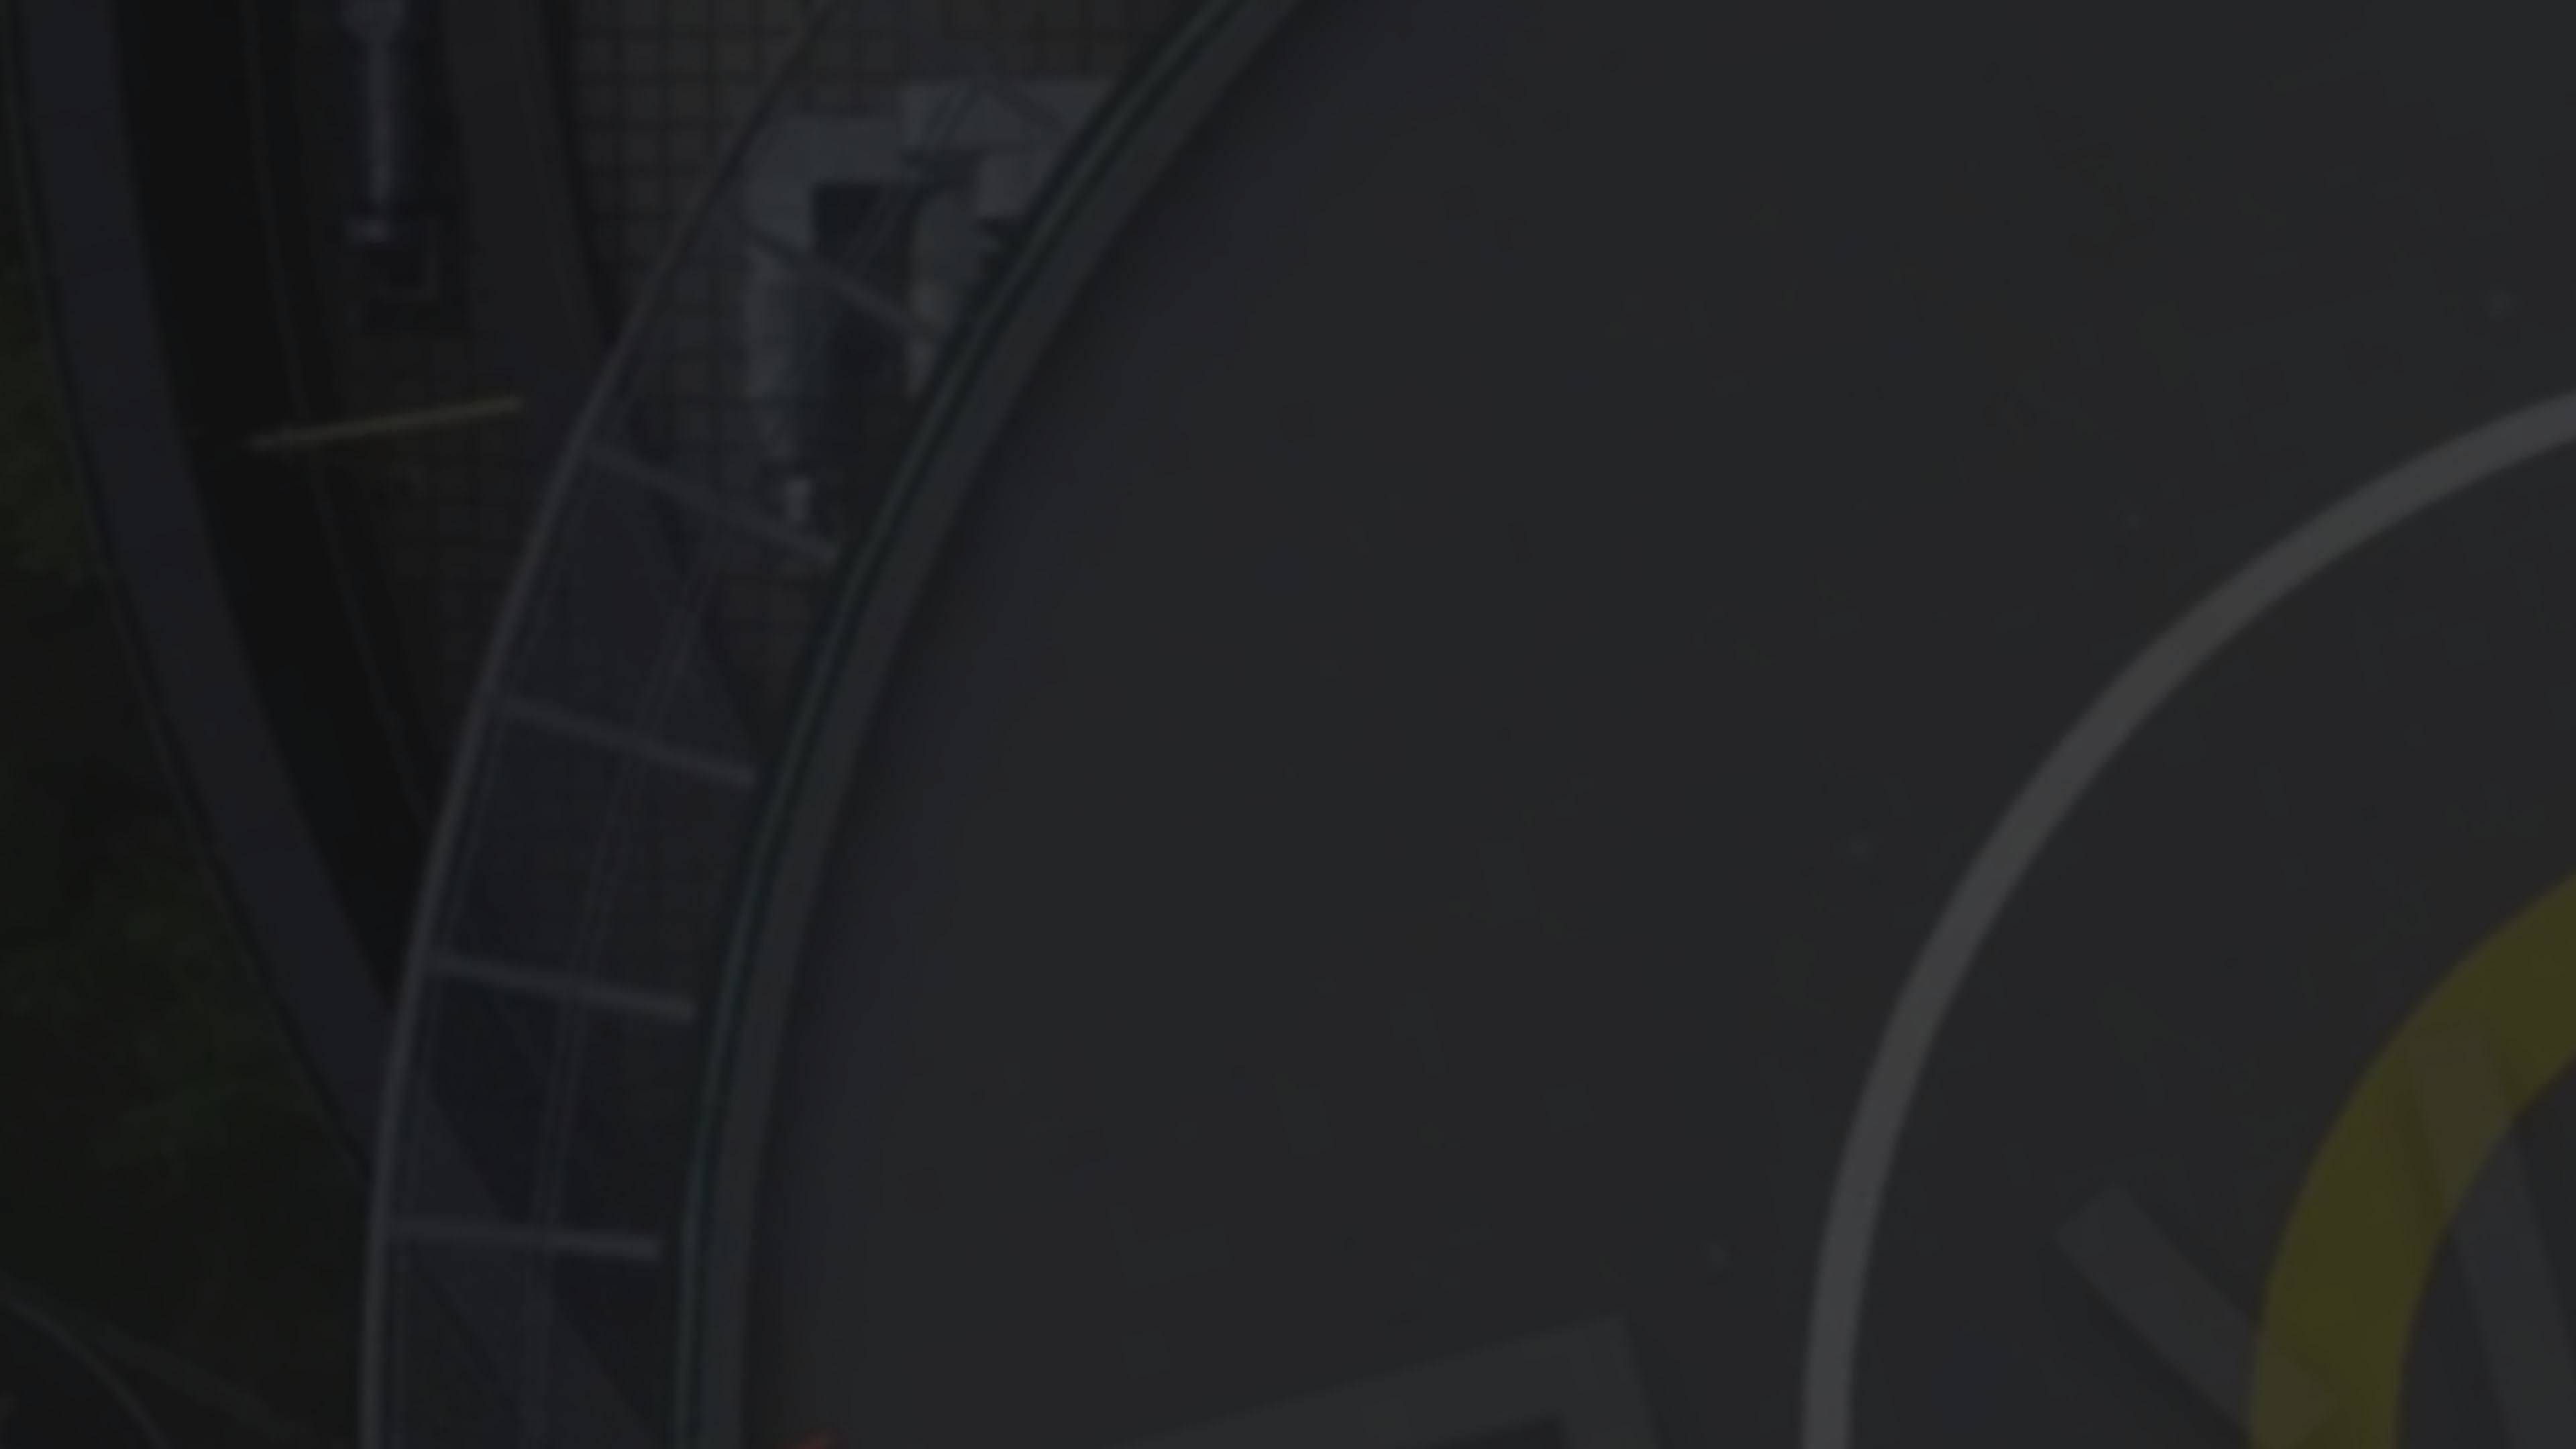Apron: (2181, 826, 2576, 1449)
